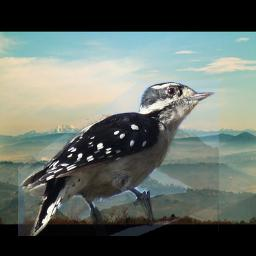Woodpecker: (18, 80, 219, 236)
